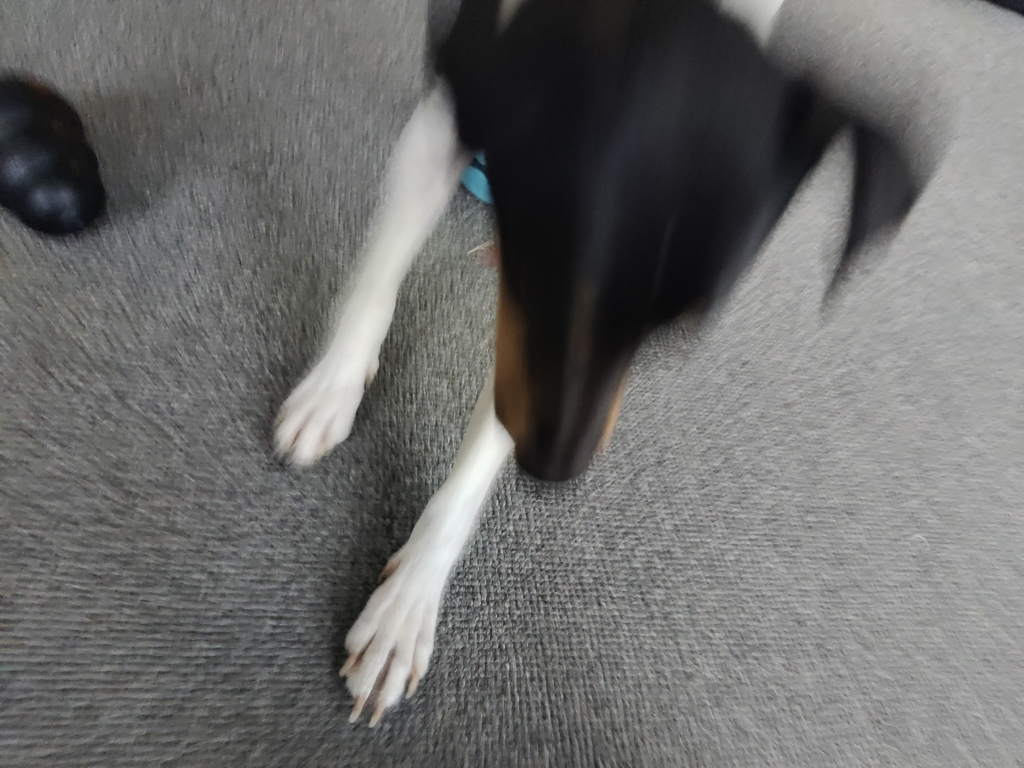Dog: (214, 0, 985, 740)
